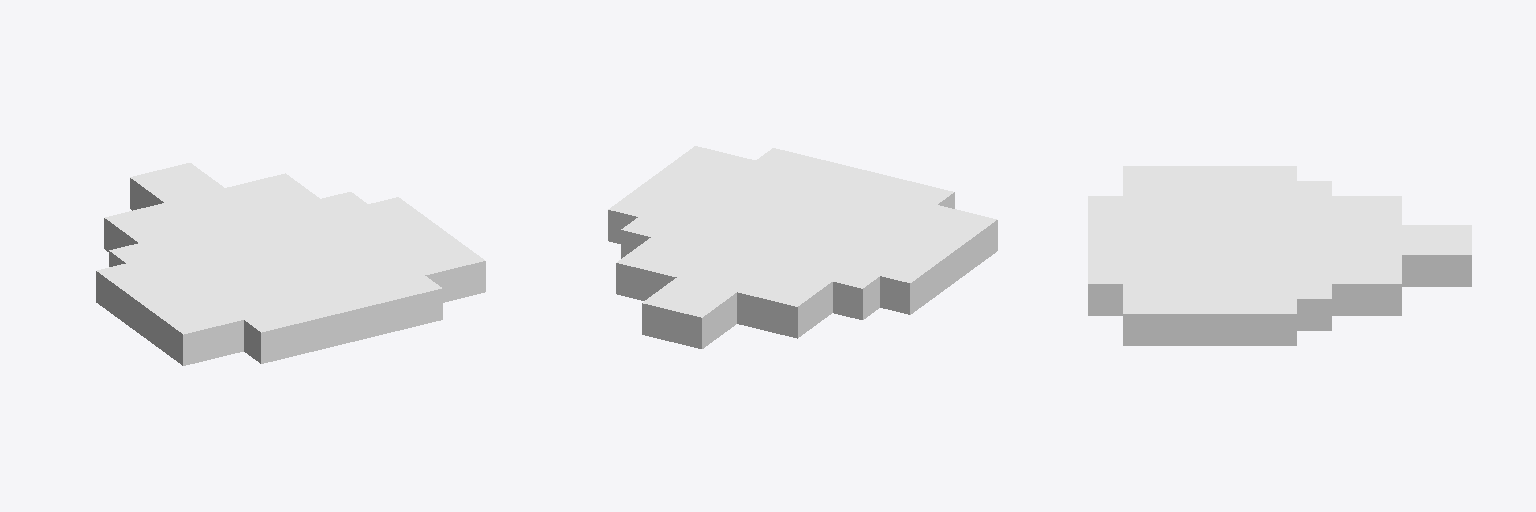
Rendered from CBINKA-1.obj.
The picture shows the model from 3 angles: view 1: azimuth 30°, elevation 25°; view 2: azimuth 150°, elevation 25°; view 3: azimuth 270°, elevation 25°; orthographic projection.
Visible parts, largest first — view 1: object 1; view 2: object 1; view 3: object 1.
Part boxes in pixels (bbox=[...]): object 1: bbox=[96, 163, 485, 365]; object 1: bbox=[608, 146, 997, 348]; object 1: bbox=[1088, 166, 1471, 345].
Bounding box in the file's own units: 1 × 0.1 × 1.1.